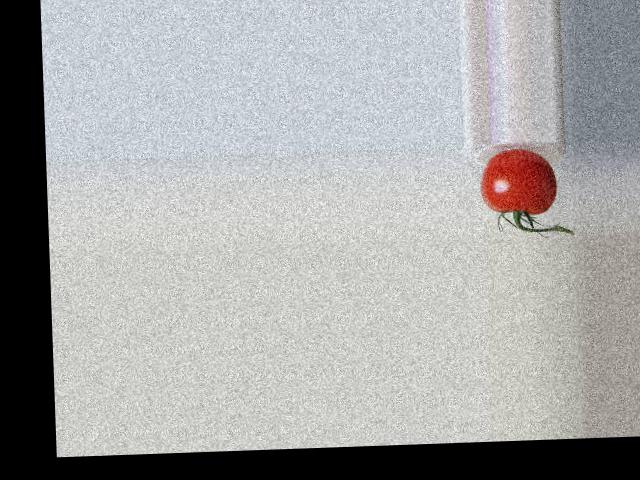tomato: (479, 147, 558, 216)
